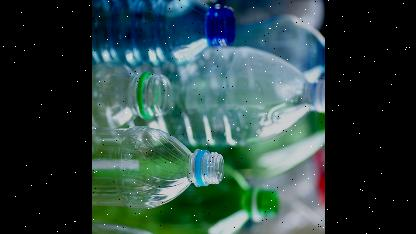Plastic Bottle: (92, 127, 222, 208), (91, 0, 235, 64)
